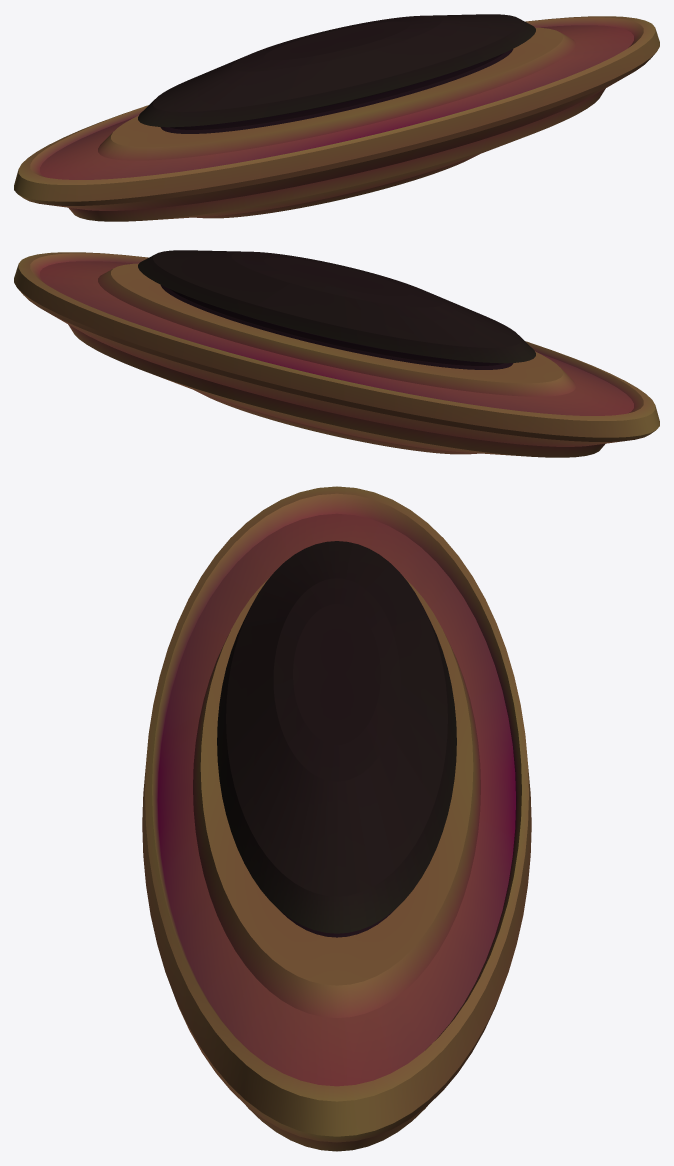
3 renders of one model, top to bottom at view 1: azimuth 30°, elevation 25°; view 2: azimuth 150°, elevation 25°; view 3: azimuth 270°, elevation 25°, orthographic. The views are drawn at different scales.
Parts seen in each view (by area): view 1: rounded_disc, terraced_crown; view 2: rounded_disc, terraced_crown; view 3: rounded_disc, terraced_crown.
Part boxes in pixels (x1=…): rounded_disc: x1=14, y1=16, x2=659, y2=221; terraced_crown: x1=138, y1=14, x2=535, y2=133; rounded_disc: x1=14, y1=252, x2=659, y2=457; terraced_crown: x1=138, y1=250, x2=535, y2=369; rounded_disc: x1=142, y1=486, x2=531, y2=1151; terraced_crown: x1=217, y1=541, x2=456, y2=937.
Size of the model in its own units: 100 by 20.66 by 26.38.
